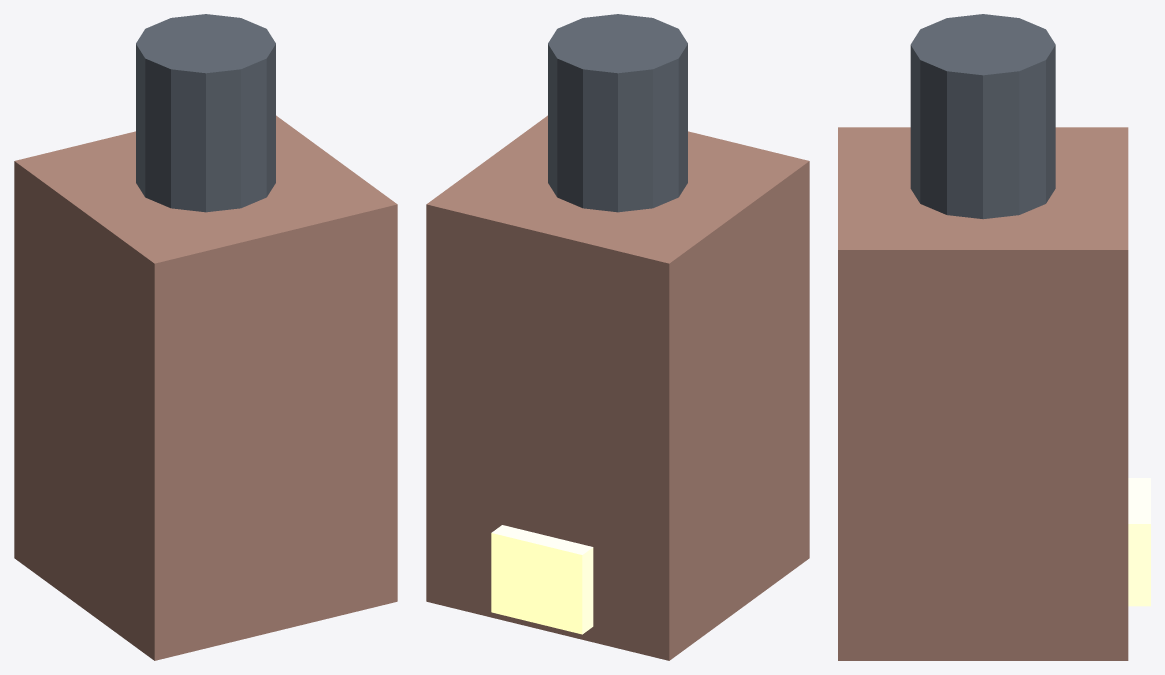
The model's file is alto_horno.glb.
3 renders of one model, left to right at view 1: azimuth 30°, elevation 25°; view 2: azimuth 150°, elevation 25°; view 3: azimuth 270°, elevation 25°, orthographic. The views are drawn at different scales.
Visible parts, largest first — view 1: torre, chimenea; view 2: torre, chimenea, boca; view 3: torre, chimenea, boca.
Part boxes in pixels (x1=…): torre: x1=14, y1=115, x2=397, y2=660; chimenea: x1=136, y1=14, x2=275, y2=212; torre: x1=426, y1=115, x2=809, y2=660; chimenea: x1=548, y1=14, x2=687, y2=212; boca: x1=491, y1=525, x2=593, y2=634; torre: x1=838, y1=127, x2=1128, y2=660; chimenea: x1=910, y1=14, x2=1055, y2=219; boca: x1=1128, y1=478, x2=1150, y2=606.
Size of the model in its own units: 0.32 by 0.675 by 0.345.
